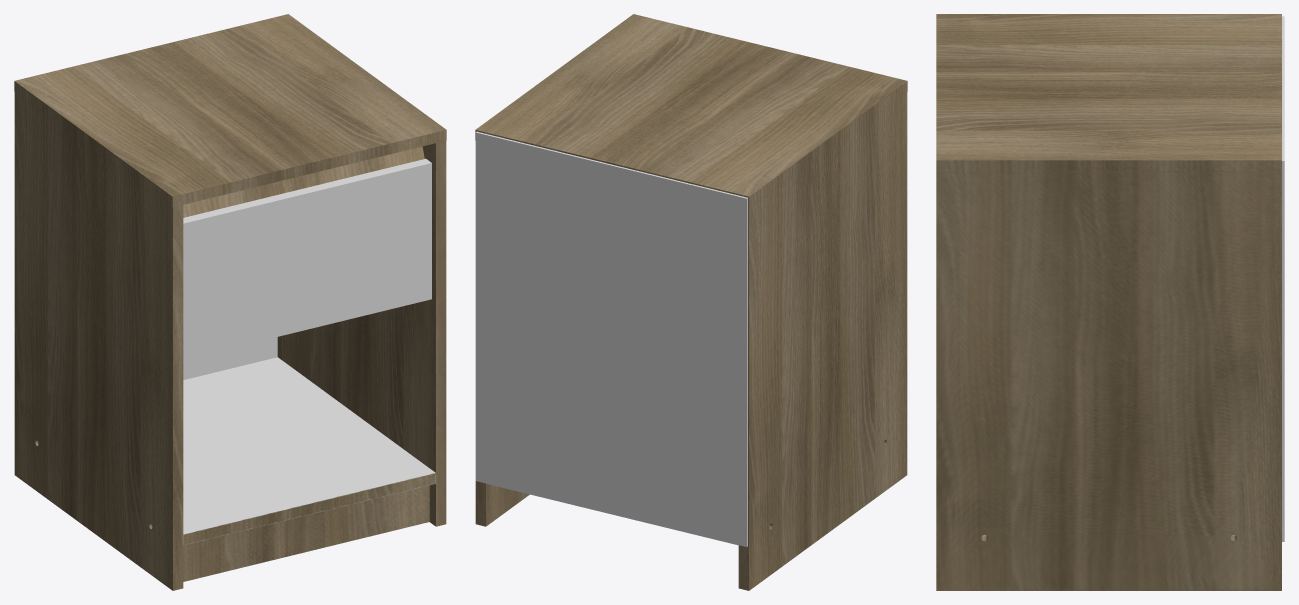
File: A008285_v1_blanco_roble.glb
3 renders of one model, left to right at view 1: azimuth 30°, elevation 25°; view 2: azimuth 150°, elevation 25°; view 3: azimuth 270°, elevation 25°, orthographic. The views are drawn at different scales.
Parts seen in each view (by area): view 1: Simetruc801008285-COSTADOSCOST, A008285-TAPASXXXTAPA, A008285-FRENTESXCAJO, A008285-PISOSXXXPISO, A008285-COSTADOSCOST, A008285-ZOCALOSXZOCA, A008285-FAJASXXXFREN, A008285-FONDOSXXMUEB; view 2: A008285-FONDOSXXMUEB, Simetruc801008285-COSTADOSCOST, A008285-TAPASXXXTAPA, A008285-COSTADOSCOST; view 3: A008285-COSTADOSCOST, A008285-TAPASXXXTAPA, A008285-FONDOSXXMUEB.
Boxes of the visible parts, left/top/right/bottom form: Simetruc801008285-COSTADOSCOST: left=14, top=92, right=183, bottom=590; A008285-TAPASXXXTAPA: left=14, top=14, right=446, bottom=207; A008285-FRENTESXCAJO: left=183, top=158, right=431, bottom=359; A008285-PISOSXXXPISO: left=183, top=357, right=435, bottom=545; A008285-COSTADOSCOST: left=277, top=141, right=446, bottom=526; A008285-ZOCALOSXZOCA: left=183, top=485, right=429, bottom=581; A008285-FAJASXXXFREN: left=183, top=146, right=424, bottom=217; A008285-FONDOSXXMUEB: left=183, top=337, right=277, bottom=379; A008285-FONDOSXXMUEB: left=475, top=131, right=747, bottom=546; Simetruc801008285-COSTADOSCOST: left=738, top=92, right=907, bottom=590; A008285-TAPASXXXTAPA: left=475, top=14, right=907, bottom=207; A008285-COSTADOSCOST: left=475, top=481, right=529, bottom=526; A008285-COSTADOSCOST: left=936, top=172, right=1281, bottom=590; A008285-TAPASXXXTAPA: left=936, top=14, right=1281, bottom=171; A008285-FONDOSXXMUEB: left=1282, top=16, right=1284, bottom=541.
Size of the model in its own units: 0.4 by 0.55 by 0.403.
1 material, 1 textured.
